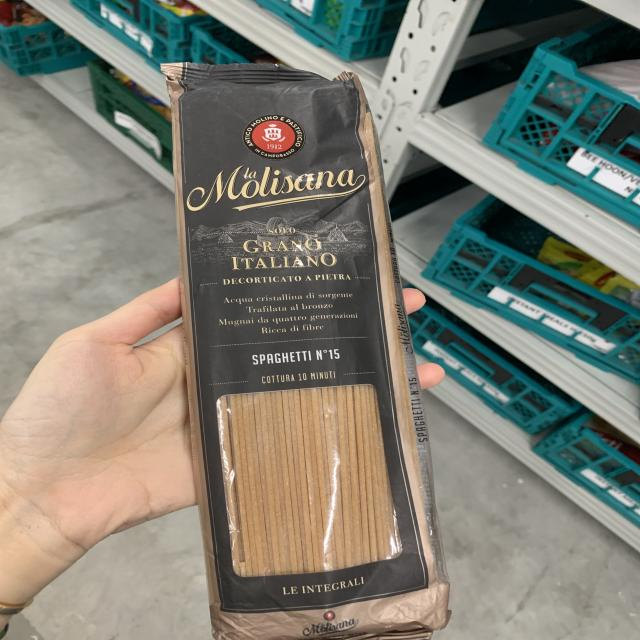object_name: (172, 63, 442, 635)
